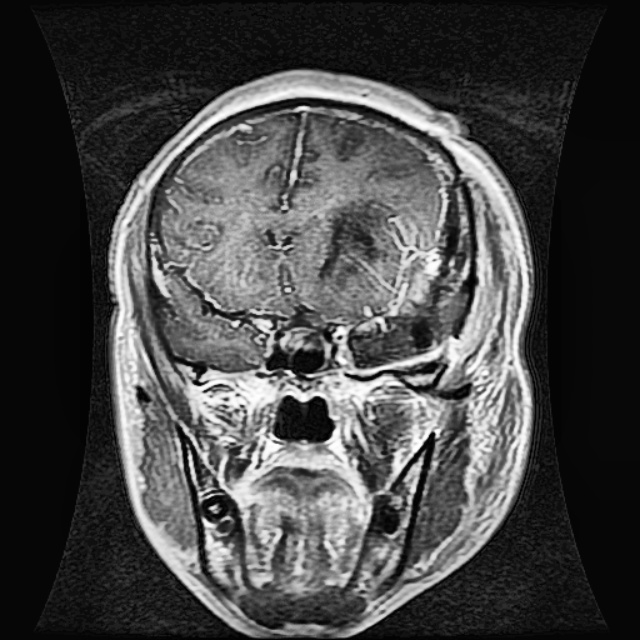Meningioma: (337, 165, 469, 368)
